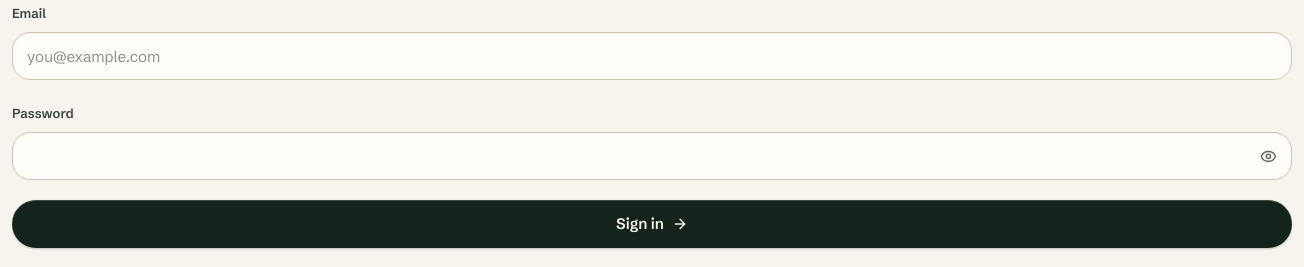
Test case: passenger authentication forms › lets a passenger reveal the password while keeping the field labeled
The width and height of the screenshot is (1304, 267).
Click the button named "Show password": click(1268, 156) [1250,138,1286,174]
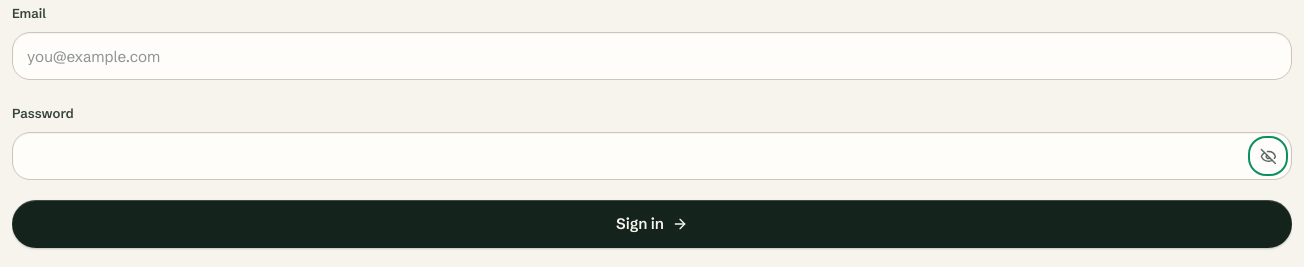
expect the button named "Hide password" is shown: met, box [1250,138,1286,174]
